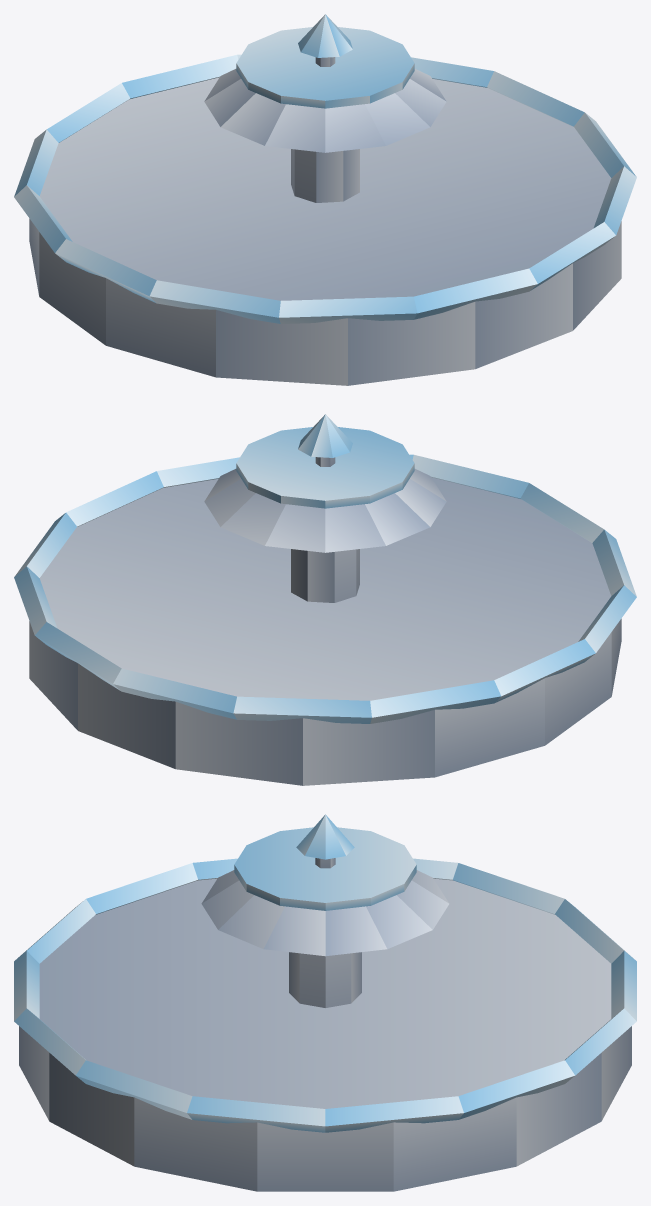
Rendered from fountain.fbx.
3 views of the same model, one above another, from view 1: azimuth 30°, elevation 25°; view 2: azimuth 150°, elevation 25°; view 3: azimuth 270°, elevation 25° (orthographic). The views are drawn at different scales.
Visible parts, largest first — view 1: fountain; view 2: fountain; view 3: fountain.
Part boxes in pixels (x1,y1,x2,y2): fountain: [14, 14, 636, 385]; fountain: [14, 414, 636, 785]; fountain: [14, 814, 636, 1191].
Bounding box in the file's own units: 1300 × 564 × 1267.
